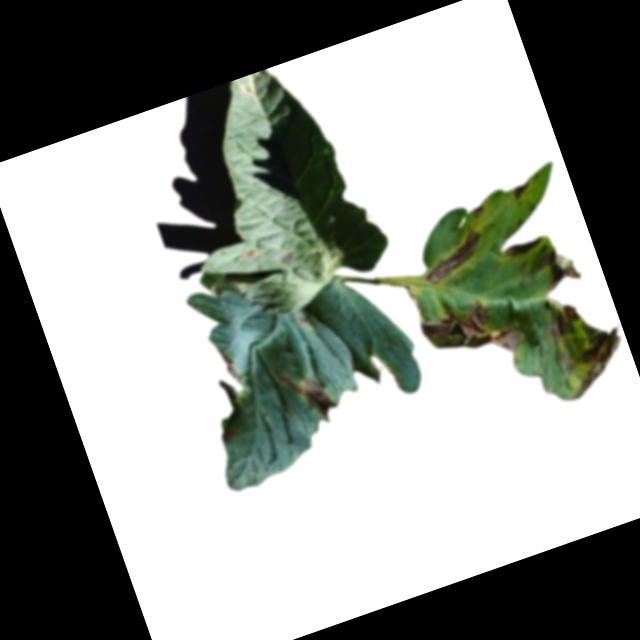Early_blight: (417, 289, 526, 378), (557, 322, 636, 399), (271, 352, 341, 428), (414, 224, 494, 289), (531, 240, 587, 295), (539, 299, 587, 346), (503, 233, 546, 259), (507, 178, 532, 201), (236, 243, 263, 262), (469, 201, 488, 218), (277, 249, 296, 264)
